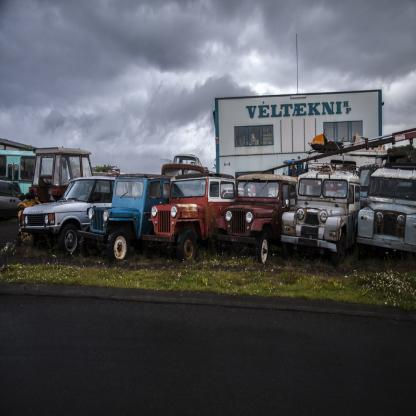Car: (22, 176, 119, 257)
